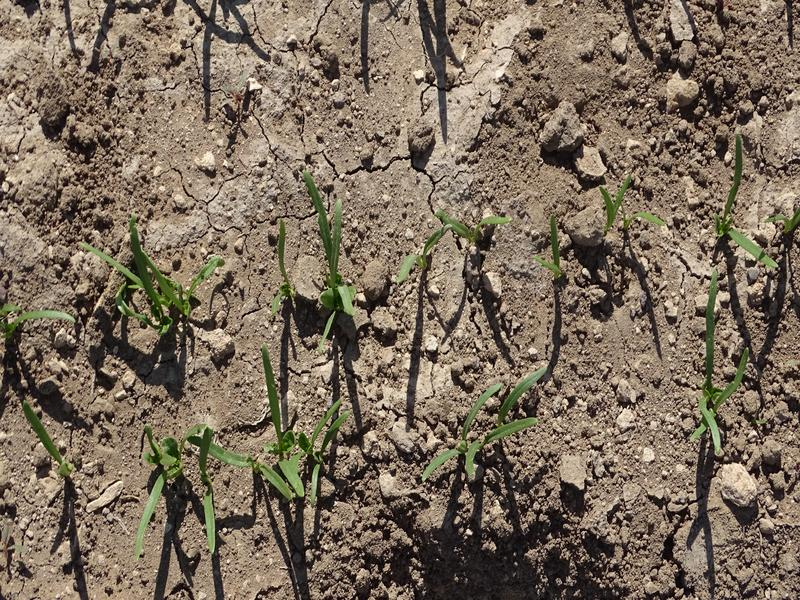Espinaca: (135, 358, 348, 553), (422, 366, 551, 481), (101, 227, 220, 328), (299, 180, 367, 320), (696, 275, 750, 448), (721, 135, 787, 268), (602, 179, 676, 240), (16, 401, 74, 475), (429, 203, 509, 246), (538, 214, 574, 283)
